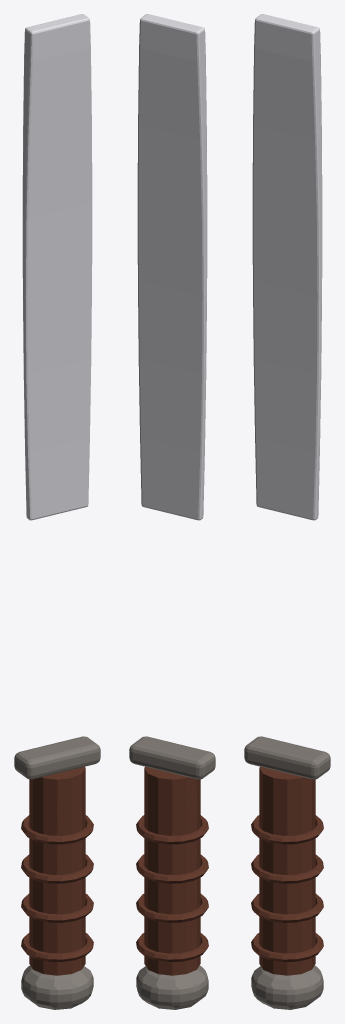
Rendered from gladius.glb.
3 views of the same model, side by side, from view 1: azimuth 30°, elevation 25°; view 2: azimuth 150°, elevation 25°; view 3: azimuth 330°, elevation 25° (orthographic).
Parts seen in each view (by area): view 1: gladius; view 2: gladius; view 3: gladius.
Part boxes in pixels (box(x1,y1,x2,y2)): gladius: box(14, 14, 100, 1009); gladius: box(129, 14, 215, 1009); gladius: box(244, 14, 330, 1009).
Size of the model in its own units: 0.04 by 0.5008 by 0.034.
Materials: 3 (1 with a texture image).
